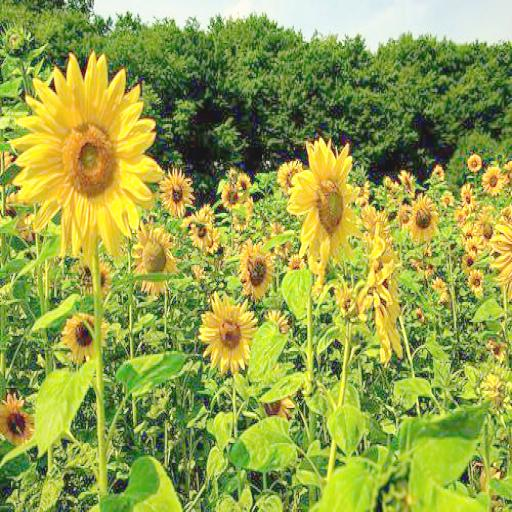sunflower: (14, 54, 161, 266), (289, 136, 360, 286), (201, 293, 257, 371), (131, 222, 174, 299), (483, 210, 512, 307), (60, 311, 110, 363), (240, 237, 274, 296), (160, 170, 194, 218), (407, 193, 438, 242), (183, 208, 213, 252), (480, 164, 504, 193)
